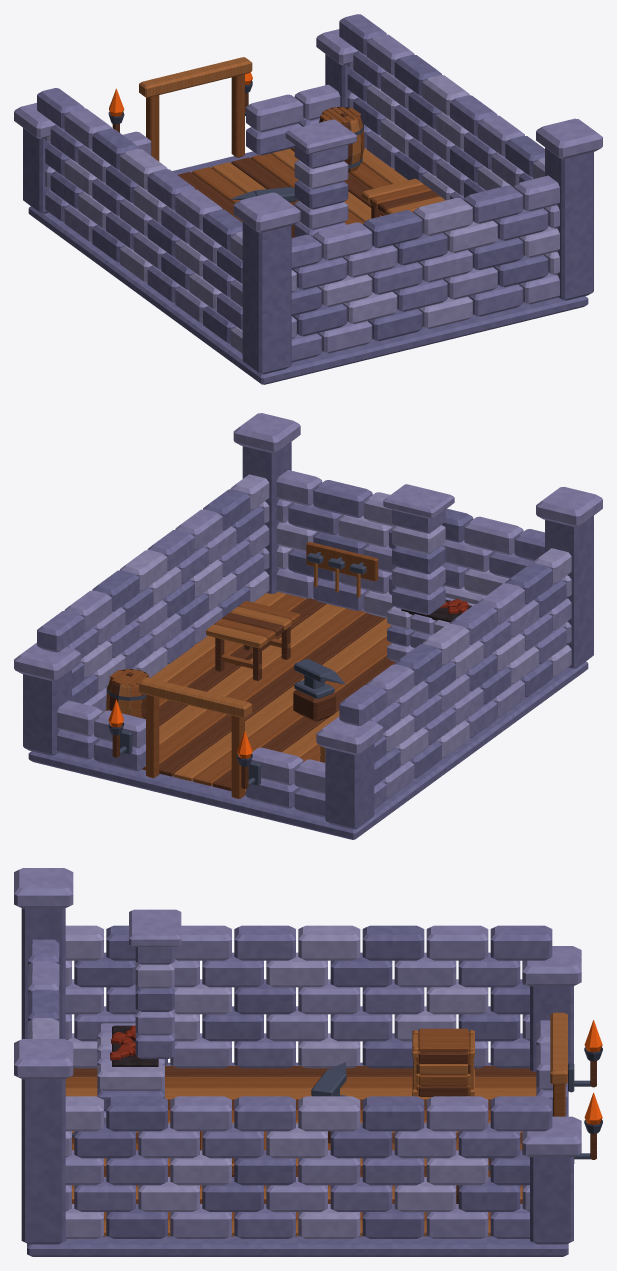
Rendered from Building_Blacksmith.obj.
3 views of the same model, one above another, from view 1: azimuth 30°, elevation 25°; view 2: azimuth 150°, elevation 25°; view 3: azimuth 270°, elevation 25° (orthographic). The views are drawn at different scales.
Visible parts, largest first — view 1: Rear_masonry, West_masonry, East_masonry, Corner_piers, Foundation, Floor_planks, Pier_caps, Forge_Chimney, Low_front_wall, Entrance_lintel, Entrance_posts, Work_table_Tabletop_planks (+2 smaller); view 2: West_masonry, East_masonry, Floor_planks, Rear_masonry, Corner_piers, Foundation, Low_front_wall, Pier_caps, Forge_Chimney, Work_table_Tabletop_planks, Entrance_posts, Entrance_lintel (+6 smaller); view 3: East_masonry, West_masonry, Corner_piers, Floor_planks, Foundation, Pier_caps, Forge_Chimney, Rear_masonry, Forge_Forge_masonry, Supplies_Planked_sides, Forge_Chimney_cap, Entrance_lintel (+5 smaller).
Part boxes in pixels (x1,y1,x2,y2): Rear_masonry: (291,175,559,362); West_masonry: (37,88,242,353); East_masonry: (339,14,544,200); Corner_piers: (23,54,593,374); Foundation: (28,151,588,384); Floor_planks: (177,147,473,351); Pier_caps: (14,29,602,232); Forge_Chimney: (294,145,348,237); Low_front_wall: (123,84,340,155); Entrance_lintel: (139,57,252,97); Entrance_posts: (146,74,244,161); Work_table_Tabletop_planks: (361,178,445,214); West_masonry: (339,548,571,808); East_masonry: (37,474,269,712); Floor_planks: (93,592,395,806); Rear_masonry: (276,470,544,618); Corner_piers: (23,442,593,829); Foundation: (28,594,588,839); Low_front_wall: (57,700,325,817); Pier_caps: (14,413,602,754); Forge_Chimney: (392,510,445,614); Work_table_Tabletop_planks: (206,601,300,648); Entrance_posts: (146,694,244,798); Entrance_lintel: (139,677,252,718); East_masonry: (65,1096,552,1238); West_masonry: (65,925,552,1068); Corner_piers: (21,908,573,1244); Floor_planks: (65,1066,536,1236); Foundation: (27,1062,568,1256); Pier_caps: (14,868,581,1157); Forge_Chimney: (135,947,174,1058); Rear_masonry: (28,939,59,1038); Forge_Forge_masonry: (97,1023,164,1131); Supplies_Planked_sides: (416,1032,470,1096); Forge_Chimney_cap: (129,909,181,946); Entrance_lintel: (550,1012,567,1084).
Size of the model in its own units: 8.9 by 4.57 by 11.31.
Materials: 12 (12 with a texture image).
